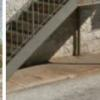stairs: (6, 1, 66, 64)
